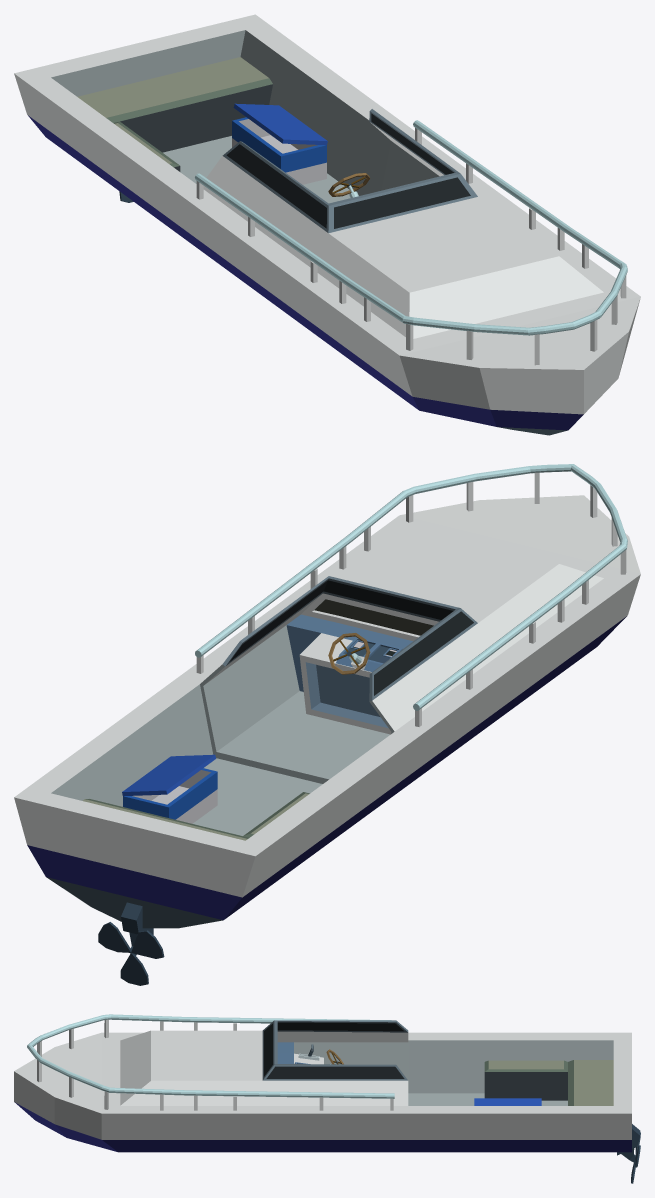
File: Speed_Boat.glb
3 renders of one model, top to bottom at view 1: azimuth 30°, elevation 25°; view 2: azimuth 150°, elevation 25°; view 3: azimuth 270°, elevation 25°, orthographic. The views are drawn at different scales.
Visible parts, largest first — view 1: Speed_Boat; view 2: Speed_Boat; view 3: Speed_Boat.
Boxes of the visible parts, x1=… form: Speed_Boat: x1=14, y1=14, x2=640, y2=435; Speed_Boat: x1=14, y1=464, x2=640, y2=985; Speed_Boat: x1=14, y1=1014, x2=640, y2=1183.
Size of the model in its own units: 2.23 by 1.78 by 7.28.
1 material, 1 textured.
